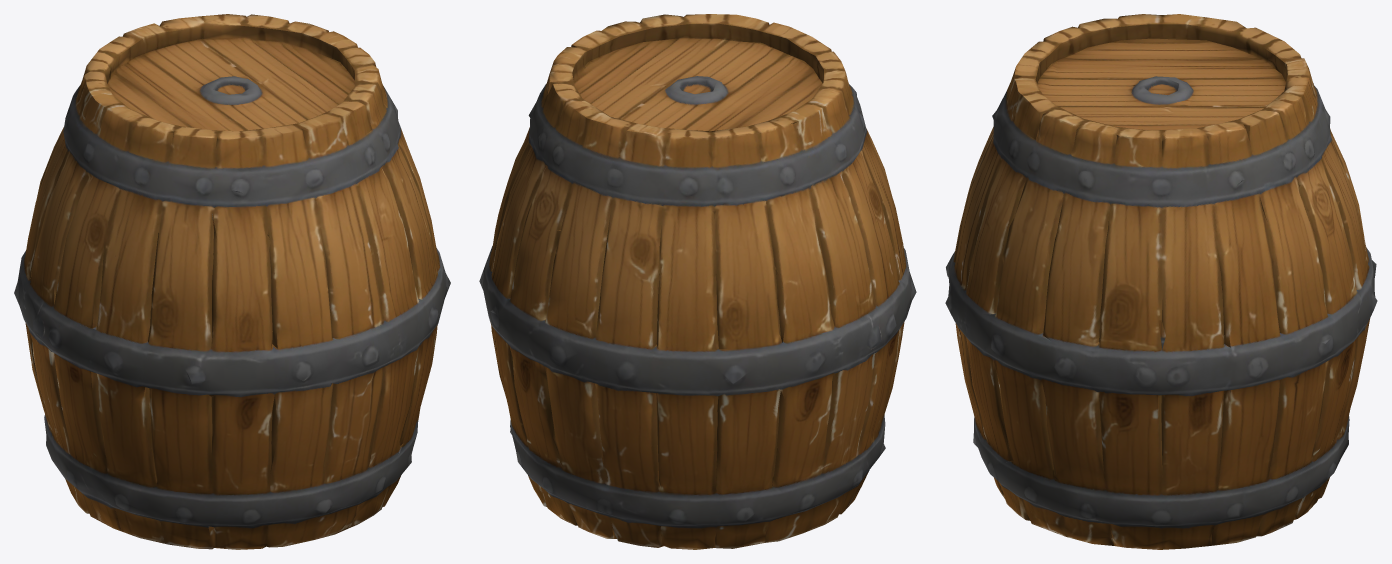
Rendered from barrel.glb.
3 views of the same model, side by side, from view 1: azimuth 30°, elevation 25°; view 2: azimuth 150°, elevation 25°; view 3: azimuth 270°, elevation 25° (orthographic).
Visible parts, largest first — view 1: world; view 2: world; view 3: world.
Boxes of the visible parts, x1,y1,x2,y2 form: world: [14, 14, 450, 549]; world: [479, 14, 916, 549]; world: [945, 14, 1377, 549].
Bounding box in the file's own units: 0.9767 × 1.01 × 0.9681.
Materials: 1 (1 with a texture image).
